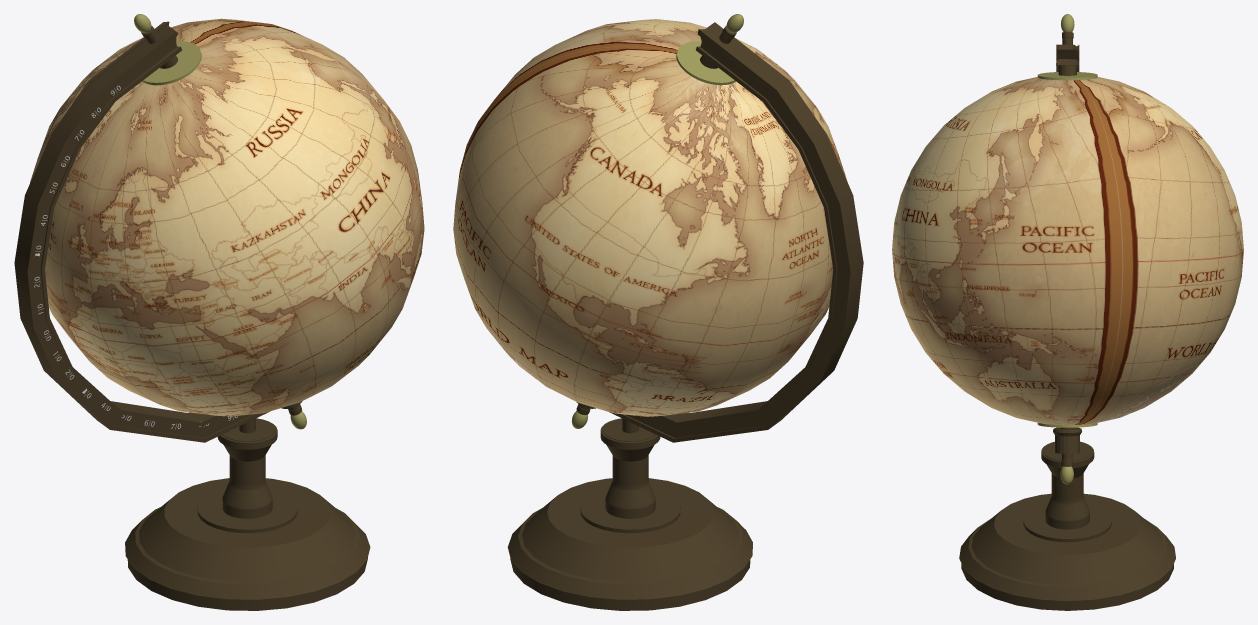
Rendered from PS_Globe_13_DF.fbx.
The picture shows the model from 3 angles, left to right: view 1: azimuth 30°, elevation 25°; view 2: azimuth 150°, elevation 25°; view 3: azimuth 270°, elevation 25°; orthographic projection. The views are drawn at different scales.
Visible parts, largest first — view 1: Globe, Globestand, pCube5, GoldCircles, Text; view 2: Globe, Globestand, pCube5, GoldCircles; view 3: Globe, Globestand, woodKnobs, GoldCircles, pCube5.
Boxes of the visible parts, box(x1,y1,x2,y2) form: Globe: box(30, 18, 424, 416); Globestand: box(125, 418, 370, 610); pCube5: box(14, 21, 269, 442); GoldCircles: box(142, 41, 201, 85); Text: box(34, 85, 237, 429); Globe: box(453, 19, 847, 416); Globestand: box(507, 418, 752, 610); pCube5: box(609, 22, 863, 442); GoldCircles: box(676, 41, 735, 85); Globe: box(892, 77, 1243, 425); Globestand: box(959, 441, 1175, 610); woodKnobs: box(1053, 32, 1081, 466); GoldCircles: box(1037, 72, 1097, 427); pCube5: box(1056, 44, 1079, 427).
Bounding box in the file's own units: 0.7227 × 1.05 × 0.6604.
Materials: 4 (1 with a texture image).
